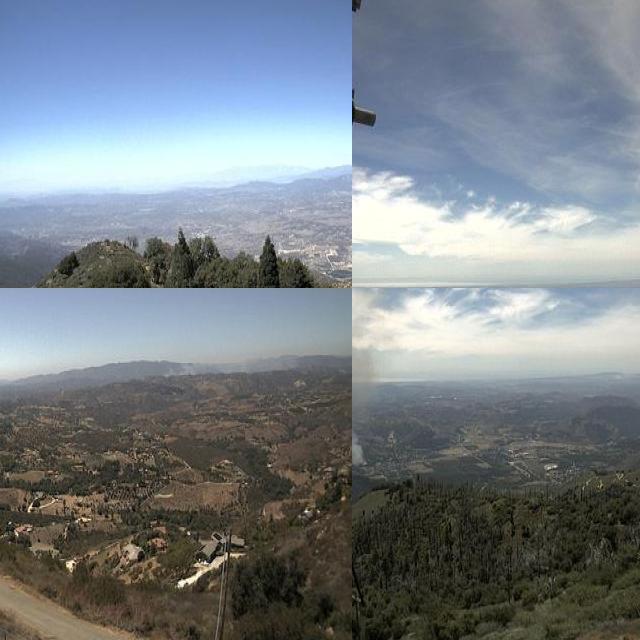smoke: (352, 288, 378, 474), (161, 344, 303, 378)
